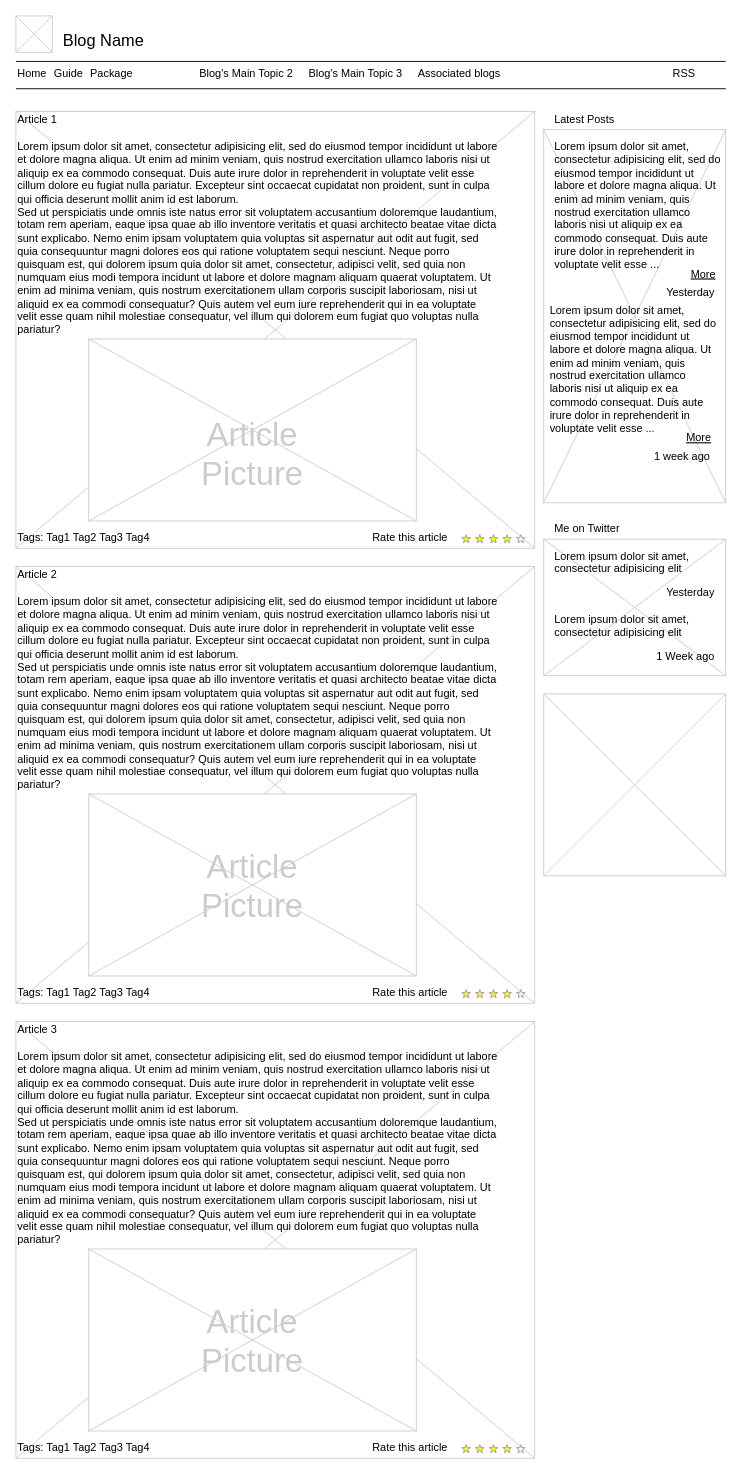
This 742x1474 diagram has some shape labels left out. Here are the shapes that lost their labels. From the top down, the box of each, then its label:
(15, 15, 52, 52): Blog Logo
(543, 693, 726, 876): Tag Cloud
